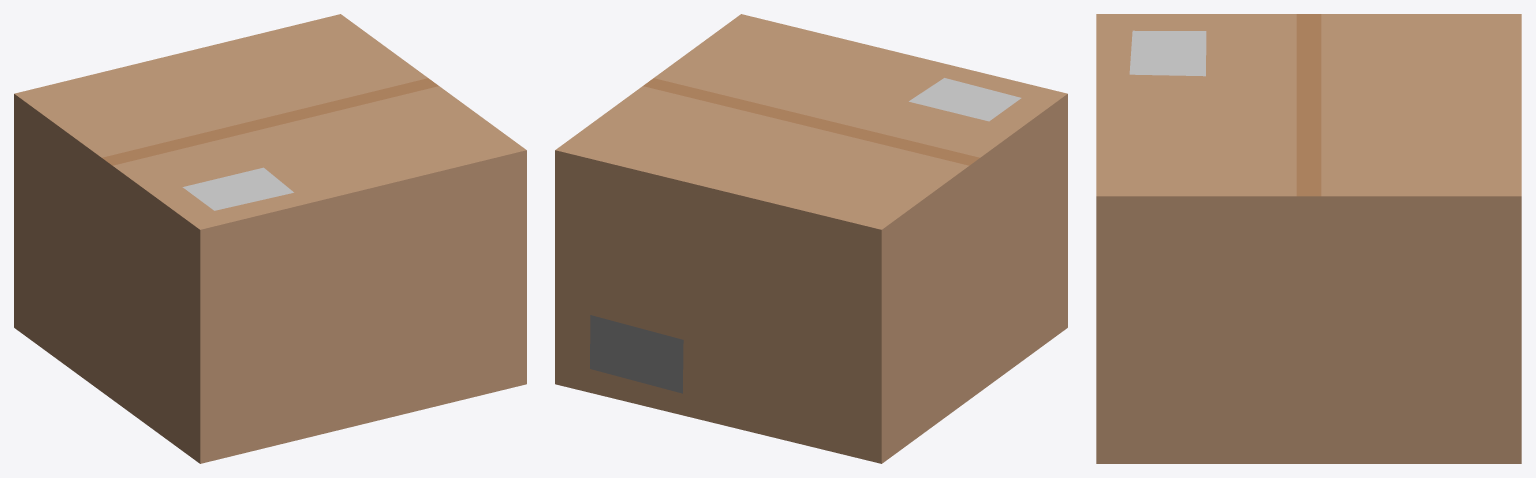
File: SM_Props_Box_01.fbx
3 views of the same model, side by side, from view 1: azimuth 30°, elevation 25°; view 2: azimuth 150°, elevation 25°; view 3: azimuth 270°, elevation 25° (orthographic). The views are drawn at different scales.
Visible parts, largest first — view 1: SM_Props_Box_01; view 2: SM_Props_Box_01; view 3: SM_Props_Box_01.
Boxes of the visible parts, x1,y1,x2,y2 form: SM_Props_Box_01: [14, 14, 526, 463]; SM_Props_Box_01: [555, 14, 1067, 463]; SM_Props_Box_01: [1096, 14, 1521, 463].
Bounding box in the file's own units: 0.4772 × 0.3268 × 0.4708.
